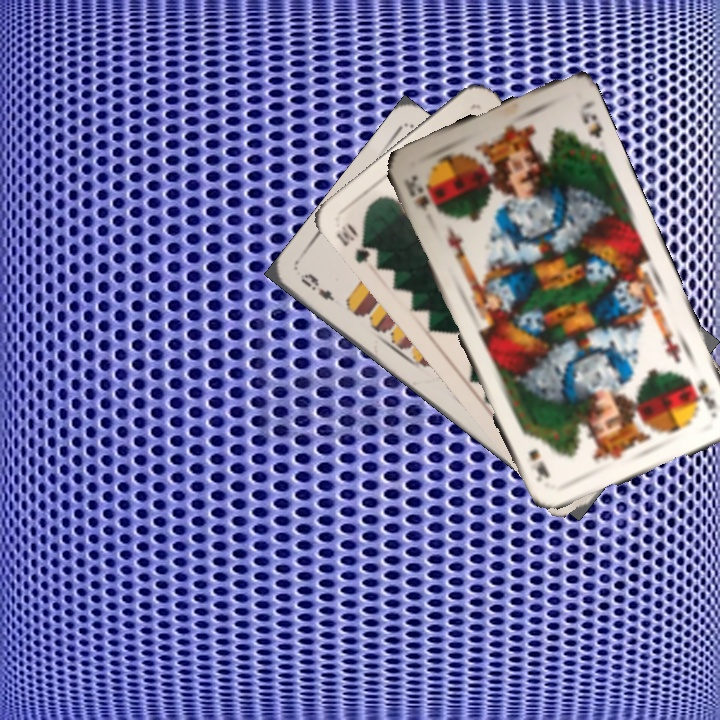E9: (295, 269, 338, 304)
G10: (332, 220, 381, 267)
SK: (400, 170, 433, 215), (684, 372, 719, 413)
